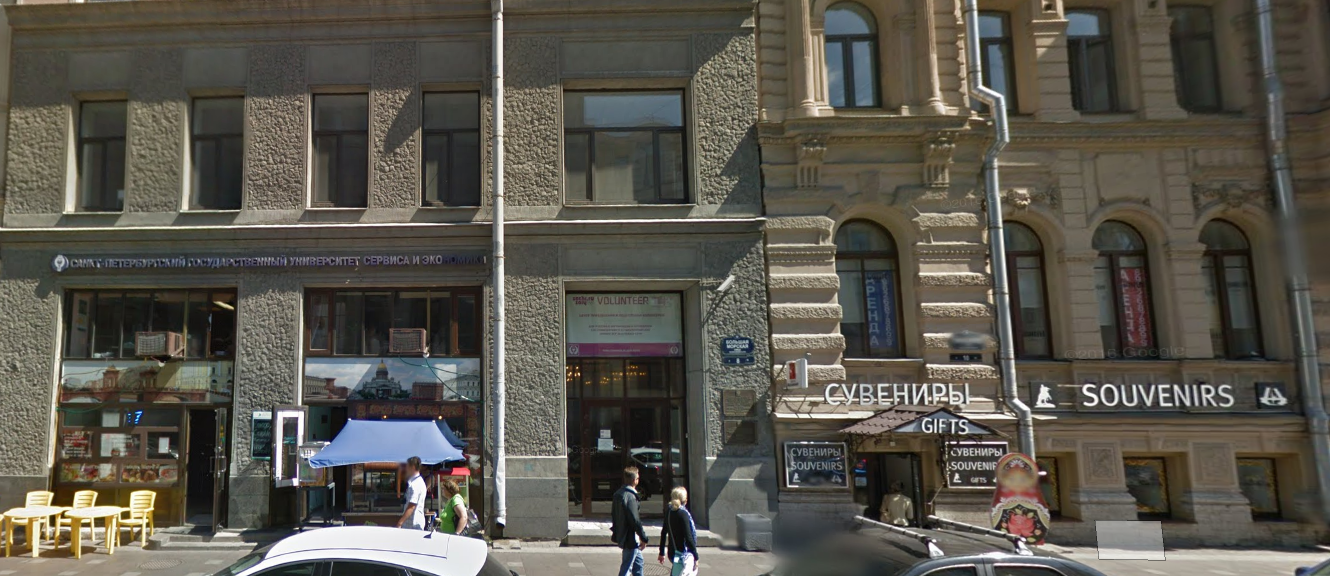cantilever: (775, 349, 811, 391)
signboard: (47, 249, 488, 272), (1025, 378, 1293, 414), (825, 379, 971, 433)
window: (563, 92, 697, 207), (305, 287, 479, 358), (59, 293, 236, 356), (1087, 217, 1160, 363), (838, 216, 911, 361), (1199, 219, 1269, 364), (816, 1, 892, 115), (1002, 219, 1058, 362), (422, 88, 482, 209), (186, 95, 244, 213), (72, 99, 129, 213), (1065, 10, 1125, 115), (1169, 3, 1225, 115), (318, 94, 368, 206), (979, 9, 1019, 115), (568, 361, 679, 397)
